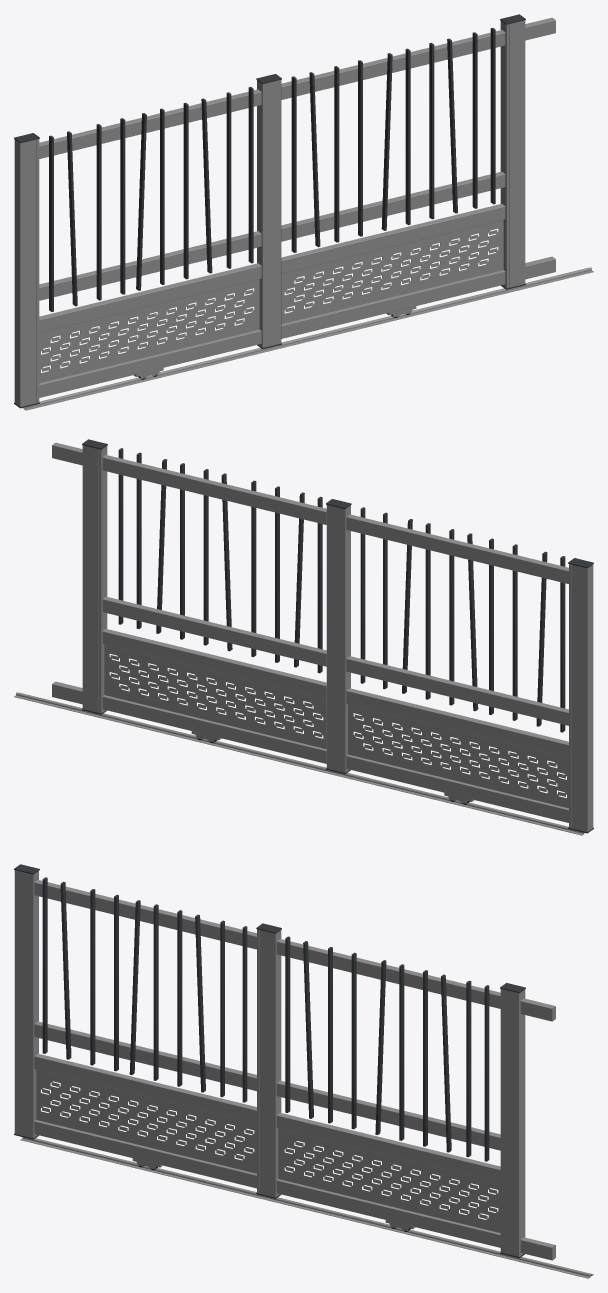
The picture shows the model from 3 angles, top to bottom: view 1: azimuth 30°, elevation 25°; view 2: azimuth 150°, elevation 25°; view 3: azimuth 330°, elevation 25°; orthographic projection.
Parts seen in each view (by area): view 1: zero, zero001, Shape107411718, Shape163, Shape107412643, Shape164, Shape107413021, Shape107413022, Shape107411722, Rail, Box117, Box121 (+18 smaller); view 2: zero, zero001, Shape164, Shape107411718, Shape107411722, Shape163, Shape107412643, Shape107413021, Shape107413022, Rail, Box117, Box121 (+18 smaller); view 3: zero, zero001, Shape107411718, Shape163, Shape164, Shape107413021, Shape107412643, Shape107411722, Shape107413022, Rail, Box117, Box121 (+18 smaller).
Part boxes in pixels (<box>): zero: <box>281,220,503,323</box>; zero001: <box>39,279,259,383</box>; Shape107411718: <box>39,204,505,332</box>; Shape163: <box>39,256,555,397</box>; Shape107412643: <box>14,139,39,406</box>; Shape164: <box>39,17,555,158</box>; Shape107413021: <box>500,20,525,288</box>; Shape107413022: <box>257,80,281,347</box>; Shape107411722: <box>39,171,505,300</box>; Rail: <box>22,267,593,410</box>; Box117: <box>96,124,101,300</box>; Box121: <box>183,102,188,279</box>; zero: <box>104,645,326,749</box>; zero001: <box>348,704,568,808</box>; Shape164: <box>52,442,568,583</box>; Shape107411718: <box>102,629,568,757</box>; Shape107411722: <box>102,596,568,725</box>; Shape163: <box>52,681,568,822</box>; Shape107412643: <box>569,564,593,831</box>; Shape107413021: <box>82,445,107,713</box>; Shape107413022: <box>326,505,350,772</box>; Rail: <box>14,692,585,835</box>; Box117: <box>512,544,517,720</box>; Box121: <box>425,523,430,699</box>; zero: <box>278,1128,500,1232</box>; zero001: <box>36,1069,256,1173</box>; Shape107411718: <box>34,1053,500,1182</box>; Shape163: <box>34,1120,555,1260</box>; Shape164: <box>34,880,555,1021</box>; Shape107413021: <box>500,989,525,1256</box>; Shape107412643: <box>14,870,38,1138</box>; Shape107411722: <box>34,1021,500,1150</box>; Shape107413022: <box>257,929,281,1197</box>; Rail: <box>20,1137,593,1278</box>; Box117: <box>90,889,95,1065</box>; Box121: <box>177,910,182,1086</box>.
Bounding box in the file's own units: 3638 × 1636 × 84.76.
Materials: 8 (3 with a texture image).
